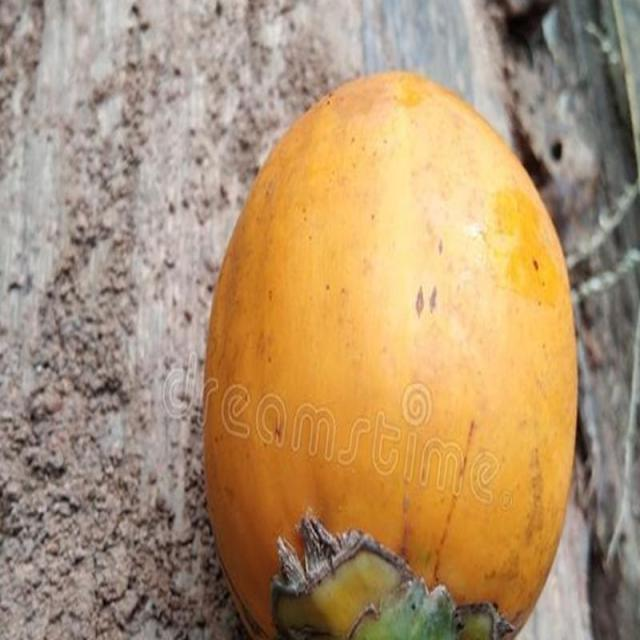good: (202, 71, 580, 639)
